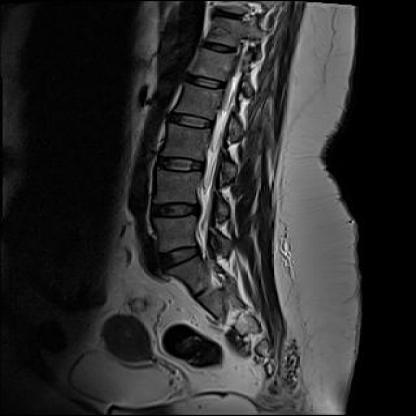Degenerative Disc Diseaserotation: (156, 244, 211, 272), (148, 197, 202, 221)
Disc Relaxationrotation: (156, 243, 208, 273)
